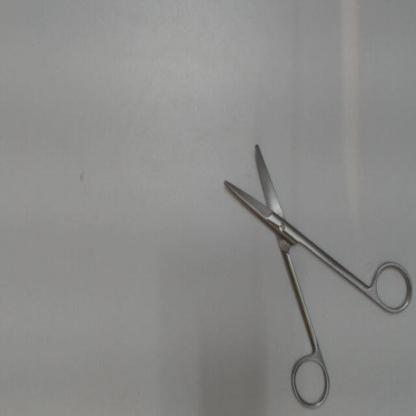Curved Mayo Scissors: (217, 134, 415, 414)
